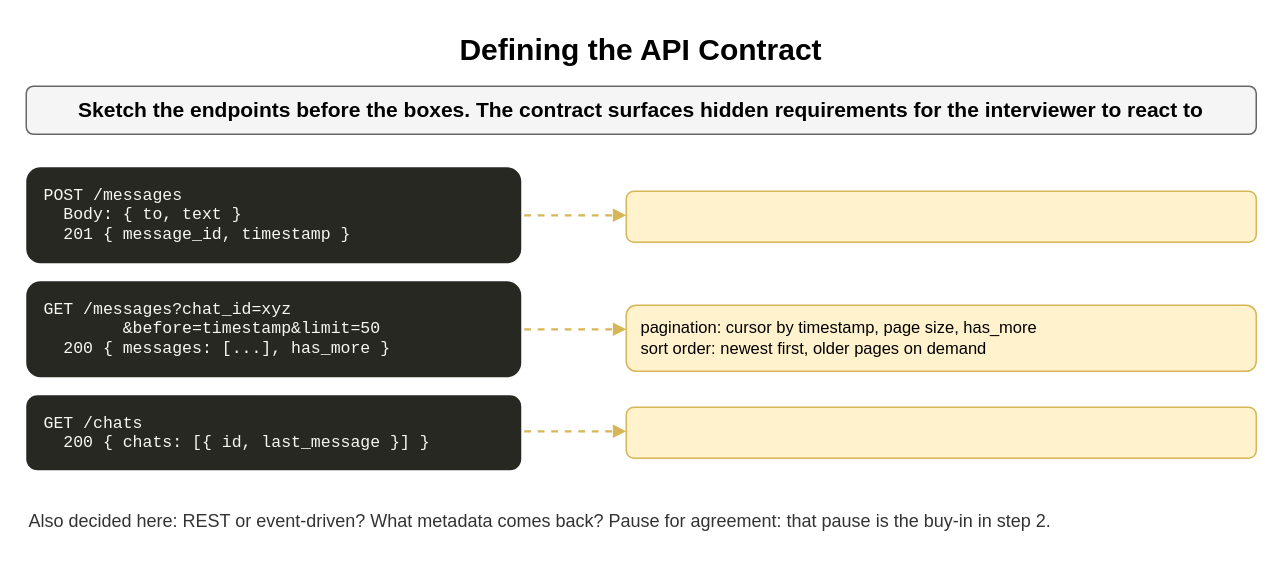
Image size: 1283x573. Some labels were removed from this diagram. The box of each missing label's shape, as (x1, y1, x2, y2) in pixels:
list view needs last_message → store or derive a per-chat summary: (625, 406, 1256, 458)
server assigns id + timestamp → it owns ordering: (625, 190, 1256, 242)
